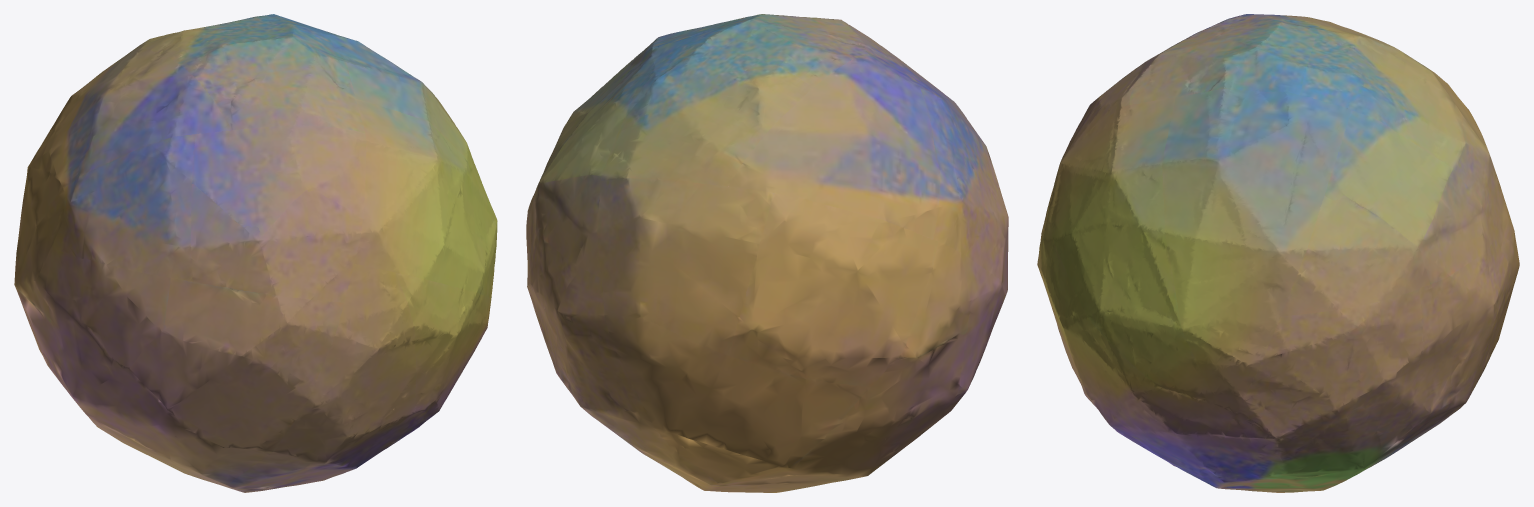
The model's file is core_ball_alt.glb.
The picture shows the model from 3 angles, left to right: view 1: azimuth 30°, elevation 25°; view 2: azimuth 150°, elevation 25°; view 3: azimuth 270°, elevation 25°; orthographic projection.
Visible parts, largest first — view 1: tripo_node_3b39feb0-859f-4b38-82d7-20d9dc80ddf7; view 2: tripo_node_3b39feb0-859f-4b38-82d7-20d9dc80ddf7; view 3: tripo_node_3b39feb0-859f-4b38-82d7-20d9dc80ddf7.
Part boxes in pixels (x1,y1,x2,y2): tripo_node_3b39feb0-859f-4b38-82d7-20d9dc80ddf7: (14, 14, 497, 492); tripo_node_3b39feb0-859f-4b38-82d7-20d9dc80ddf7: (526, 14, 1008, 492); tripo_node_3b39feb0-859f-4b38-82d7-20d9dc80ddf7: (1037, 14, 1519, 492).
Size of the model in its own units: 0.991 by 0.9995 by 0.9997.
Materials: 1 (1 with a texture image).
